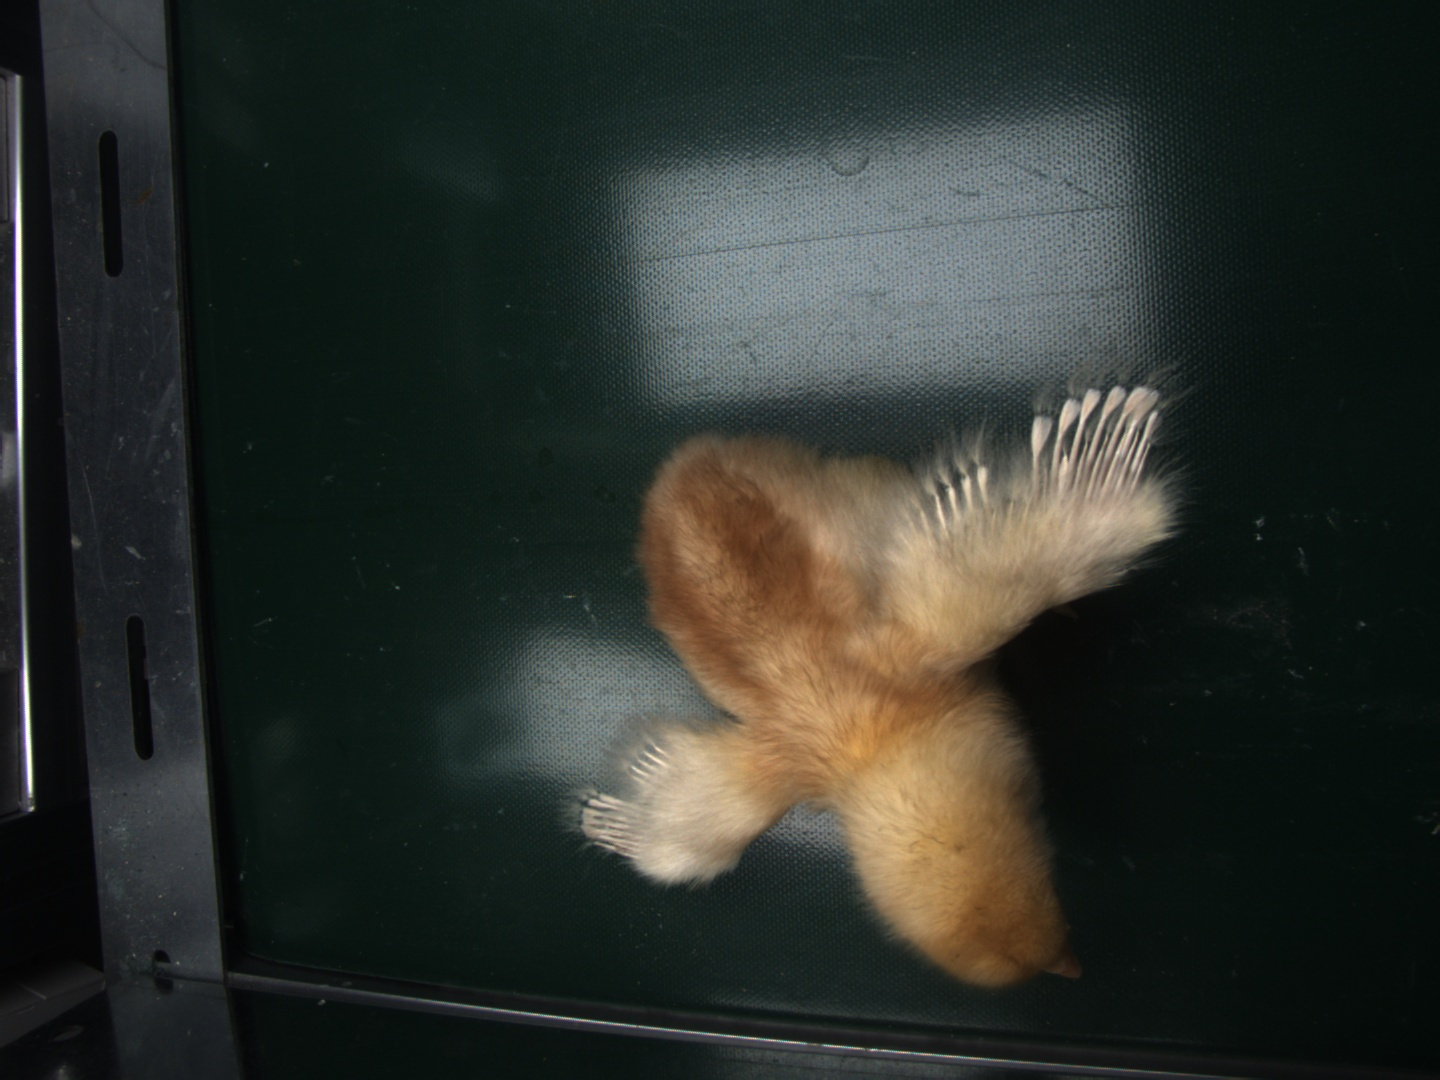female: (1036, 380, 1163, 486)
